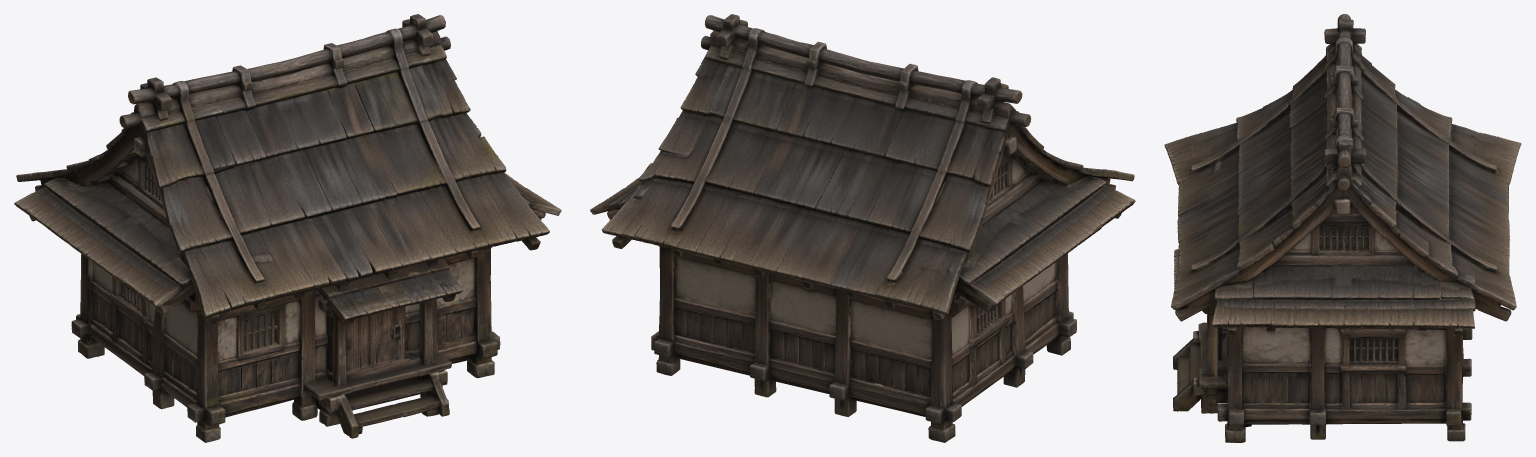
3 views of the same model, side by side, from view 1: azimuth 30°, elevation 25°; view 2: azimuth 150°, elevation 25°; view 3: azimuth 270°, elevation 25° (orthographic). The views are drawn at different scales.
Visible parts, largest first — view 1: wooden hut 3d model; view 2: wooden hut 3d model; view 3: wooden hut 3d model.
Part boxes in pixels (left/top/right/bottom): wooden hut 3d model: left=14, top=14, right=561, bottom=442; wooden hut 3d model: left=590, top=14, right=1135, bottom=442; wooden hut 3d model: left=1164, top=14, right=1521, bottom=442.
Bounding box in the file's own units: 98.25 × 72.93 × 79.
Materials: 1 (1 with a texture image).
